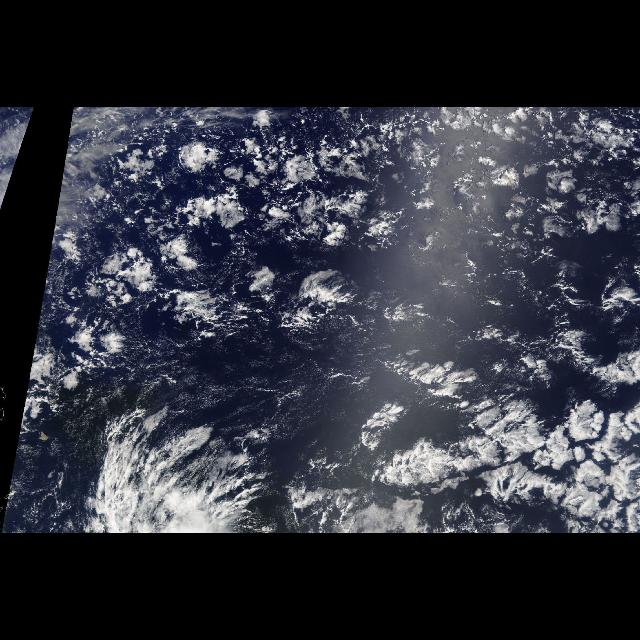Fish: (366, 432, 640, 516)
Flower: (90, 107, 640, 340), (340, 402, 628, 528)
Sugar: (83, 324, 395, 442)
